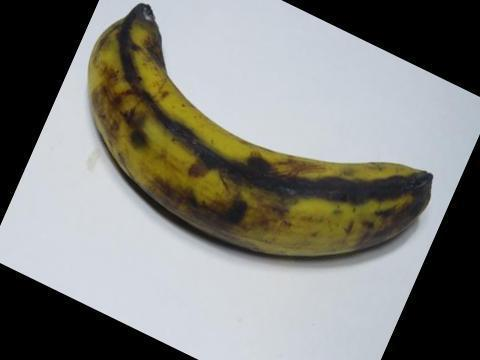overripe: (77, 10, 443, 267)
